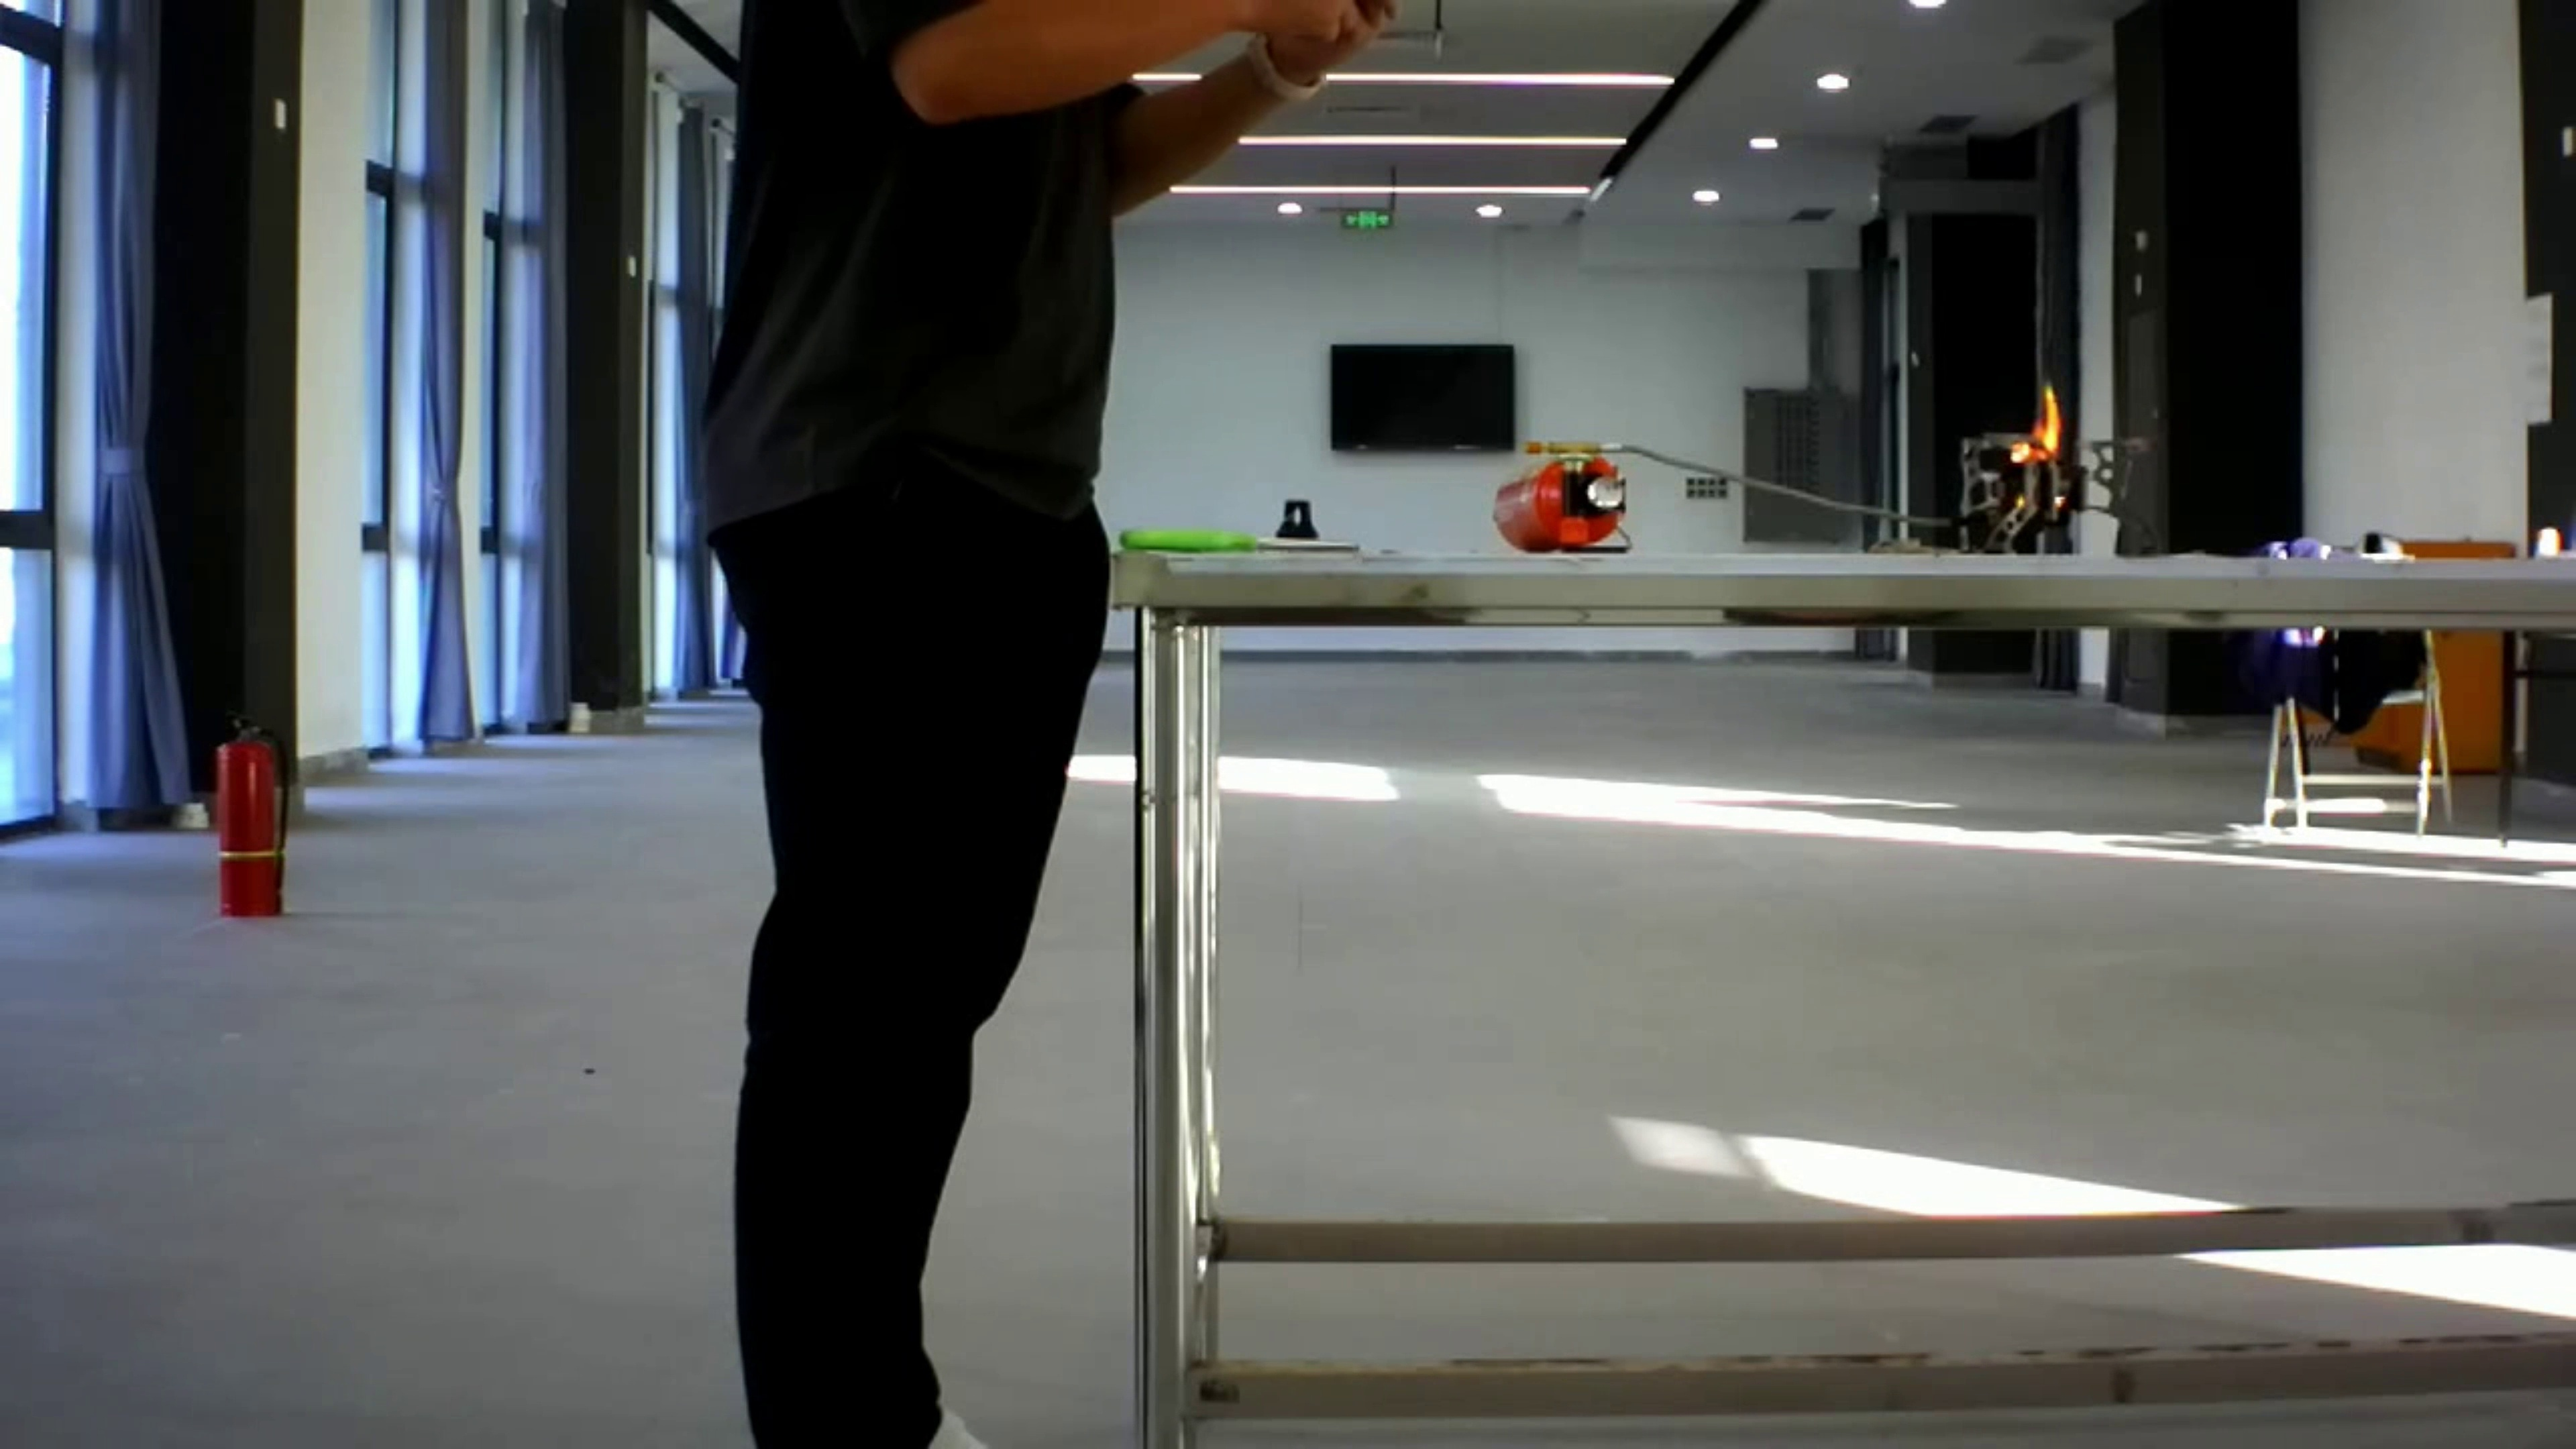Fire: (1987, 372, 2075, 497)
